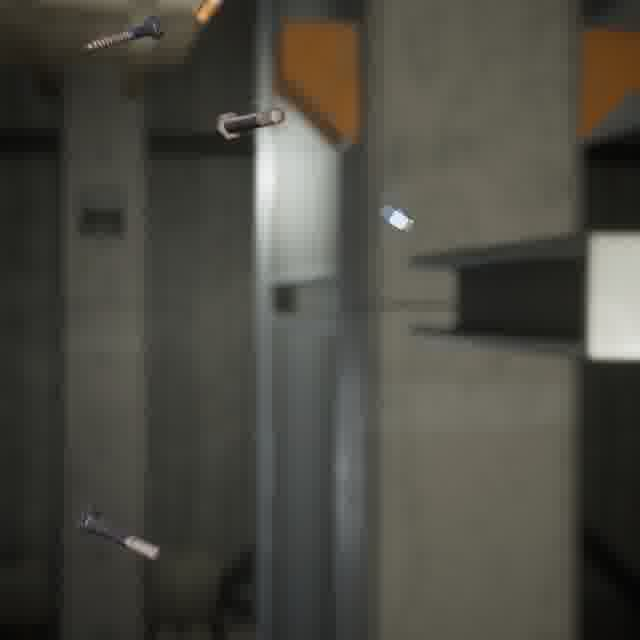bolt: (70, 501, 168, 566), (80, 11, 169, 55), (210, 104, 288, 144), (189, 0, 231, 29)
nut: (374, 198, 417, 235)
